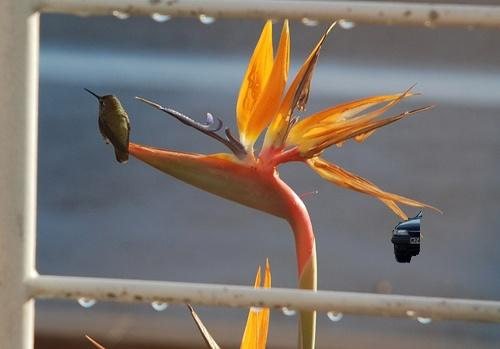tampered: (392, 212, 422, 263)
